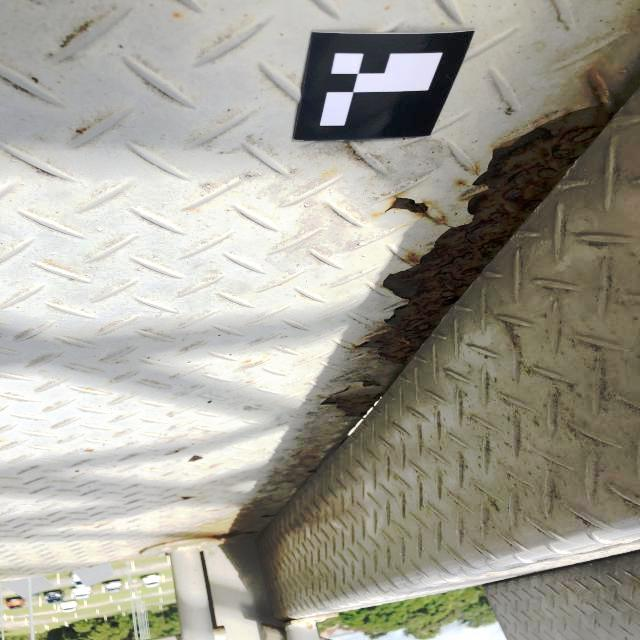Corrosion: (361, 105, 616, 364), (321, 393, 382, 417), (388, 197, 429, 213), (207, 532, 256, 540), (352, 378, 384, 387), (317, 612, 338, 616), (179, 496, 196, 500), (308, 469, 318, 473), (308, 623, 313, 629)
